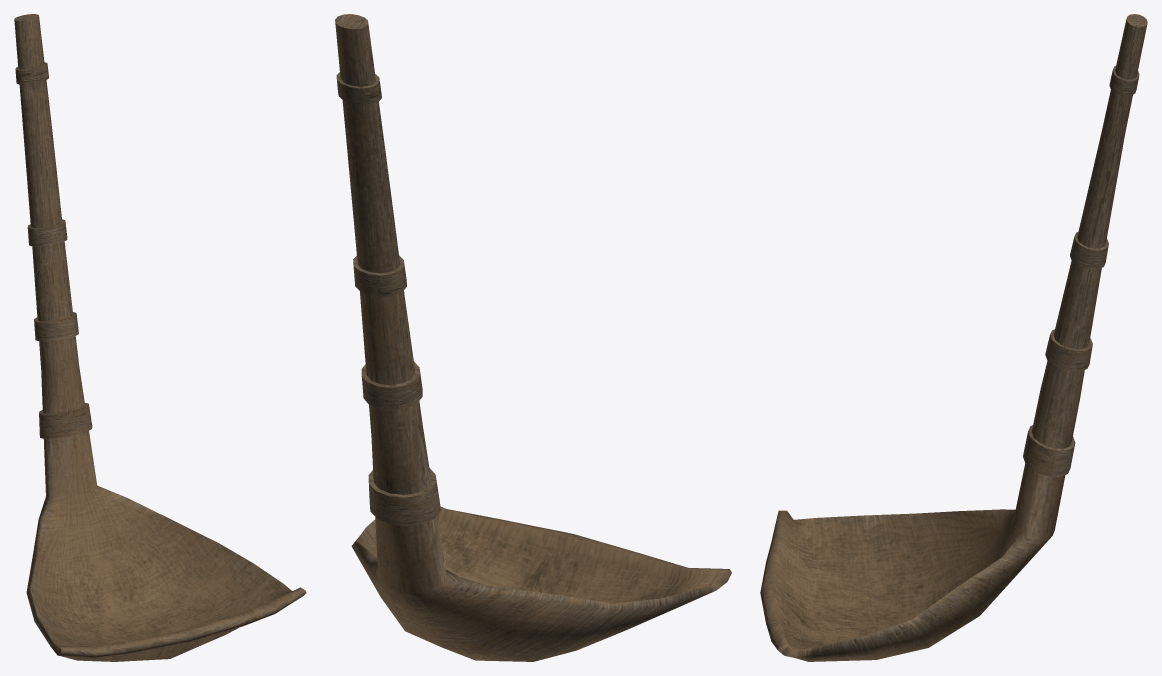
The picture shows the model from 3 angles, left to right: view 1: azimuth 30°, elevation 25°; view 2: azimuth 150°, elevation 25°; view 3: azimuth 270°, elevation 25°; orthographic projection. The views are drawn at different scales.
Parts seen in each view (by area): view 1: SM_Strainer; view 2: SM_Strainer; view 3: SM_Strainer.
Boxes of the visible parts, x1=… form: SM_Strainer: x1=14, y1=14, x2=306, y2=661; SM_Strainer: x1=335, y1=14, x2=731, y2=661; SM_Strainer: x1=760, y1=14, x2=1147, y2=661.
Bounding box in the file's own units: 0.1965 × 0.415 × 0.2345.
1 material, 1 textured.
